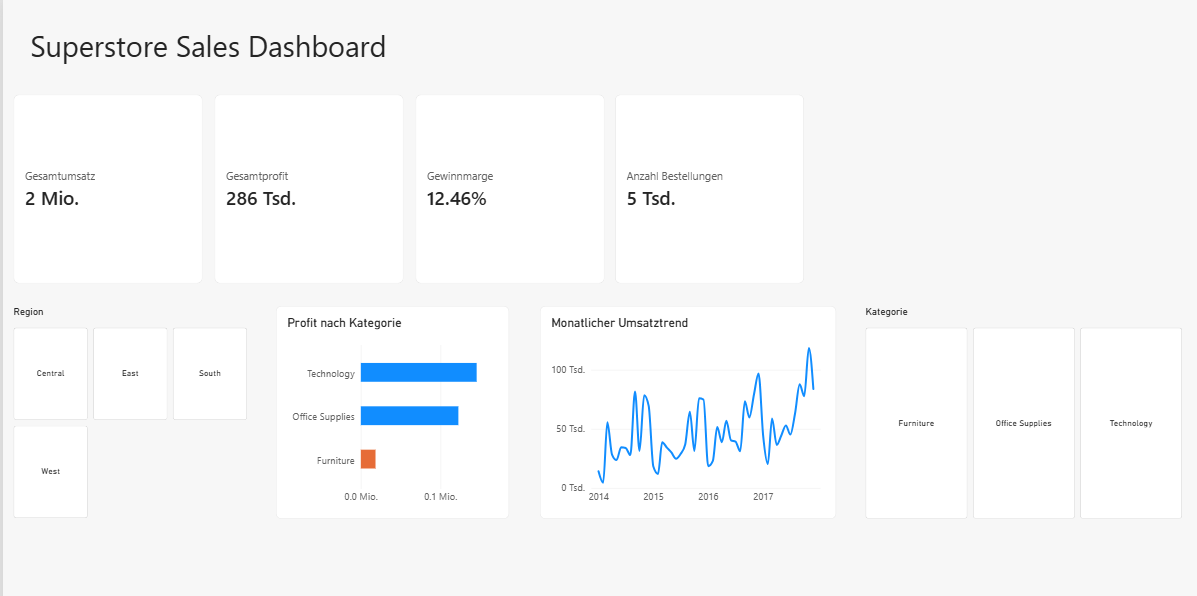

The dashboard page shown, as its layout file describes it:
{"tool":"powerbi","page":{"name":"Seite 1","canvas":[1920,1080],"ordinal":0},"visuals":[{"type":"cardVisual","fields":{"Data":["Sum(superstore_cleaned.sales)"]},"box":[15,140,280,280],"z":0},{"type":"cardVisual","fields":{"Data":["Sum(superstore_cleaned.profit)"]},"box":[312.5,140,280,280],"z":1000},{"type":"cardVisual","fields":{"Data":["superstore_cleaned.Anzahl Bestellungen"]},"box":[907.5,140,280,280],"z":2000},{"type":"cardVisual","fields":{"Data":["superstore_cleaned.Gewinnmarge"]},"box":[610,140,280,280],"z":3000},{"type":"lineChart","title":"Monatlicher Umsatztrend","fields":{"Category":["superstore_cleaned.order_year_month"],"Y":["Sum(superstore_cleaned.sales)"]},"box":[796.3,453.7,438.3,315],"z":4000},{"type":"advancedSlicerVisual","title":"Region","fields":{"Values":["superstore_cleaned.region"]},"box":[15,453.3,346.7,315],"z":5000},{"type":"advancedSlicerVisual","title":"Kategorie","fields":{"Values":["superstore_cleaned.category"]},"box":[1277.8,453.7,471.7,315],"z":6000},{"type":"clusteredBarChart","title":"Profit nach Kategorie","fields":{"Category":["superstore_cleaned.category"],"Y":["Sum(superstore_cleaned.profit)"]},"box":[403.7,453.7,345,315],"z":7000},{"type":"textbox","box":[15,37.5,577.5,70],"z":8000}]}

Visuals, with their boxes on the page's 1920x1080 design canvas (x1, y1, x2, y2). These are canvas units, not pixel positions in the 1197x596 screenshot, which may show the page scaled, cropped or inside an application window:
cardVisual - Sum(superstore_cleaned.sales): pyautogui.locateOnScreen(15, 140, 295, 420)
cardVisual - Sum(superstore_cleaned.profit): pyautogui.locateOnScreen(312, 140, 592, 420)
cardVisual - superstore_cleaned.Anzahl Bestellungen: pyautogui.locateOnScreen(908, 140, 1188, 420)
cardVisual - superstore_cleaned.Gewinnmarge: pyautogui.locateOnScreen(610, 140, 890, 420)
"Monatlicher Umsatztrend" lineChart: pyautogui.locateOnScreen(796, 454, 1235, 769)
"Region" advancedSlicerVisual: pyautogui.locateOnScreen(15, 453, 362, 768)
"Kategorie" advancedSlicerVisual: pyautogui.locateOnScreen(1278, 454, 1750, 769)
"Profit nach Kategorie" clusteredBarChart: pyautogui.locateOnScreen(404, 454, 749, 769)
textbox: pyautogui.locateOnScreen(15, 38, 592, 108)
